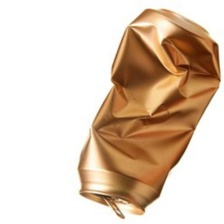can: (64, 8, 222, 220)
